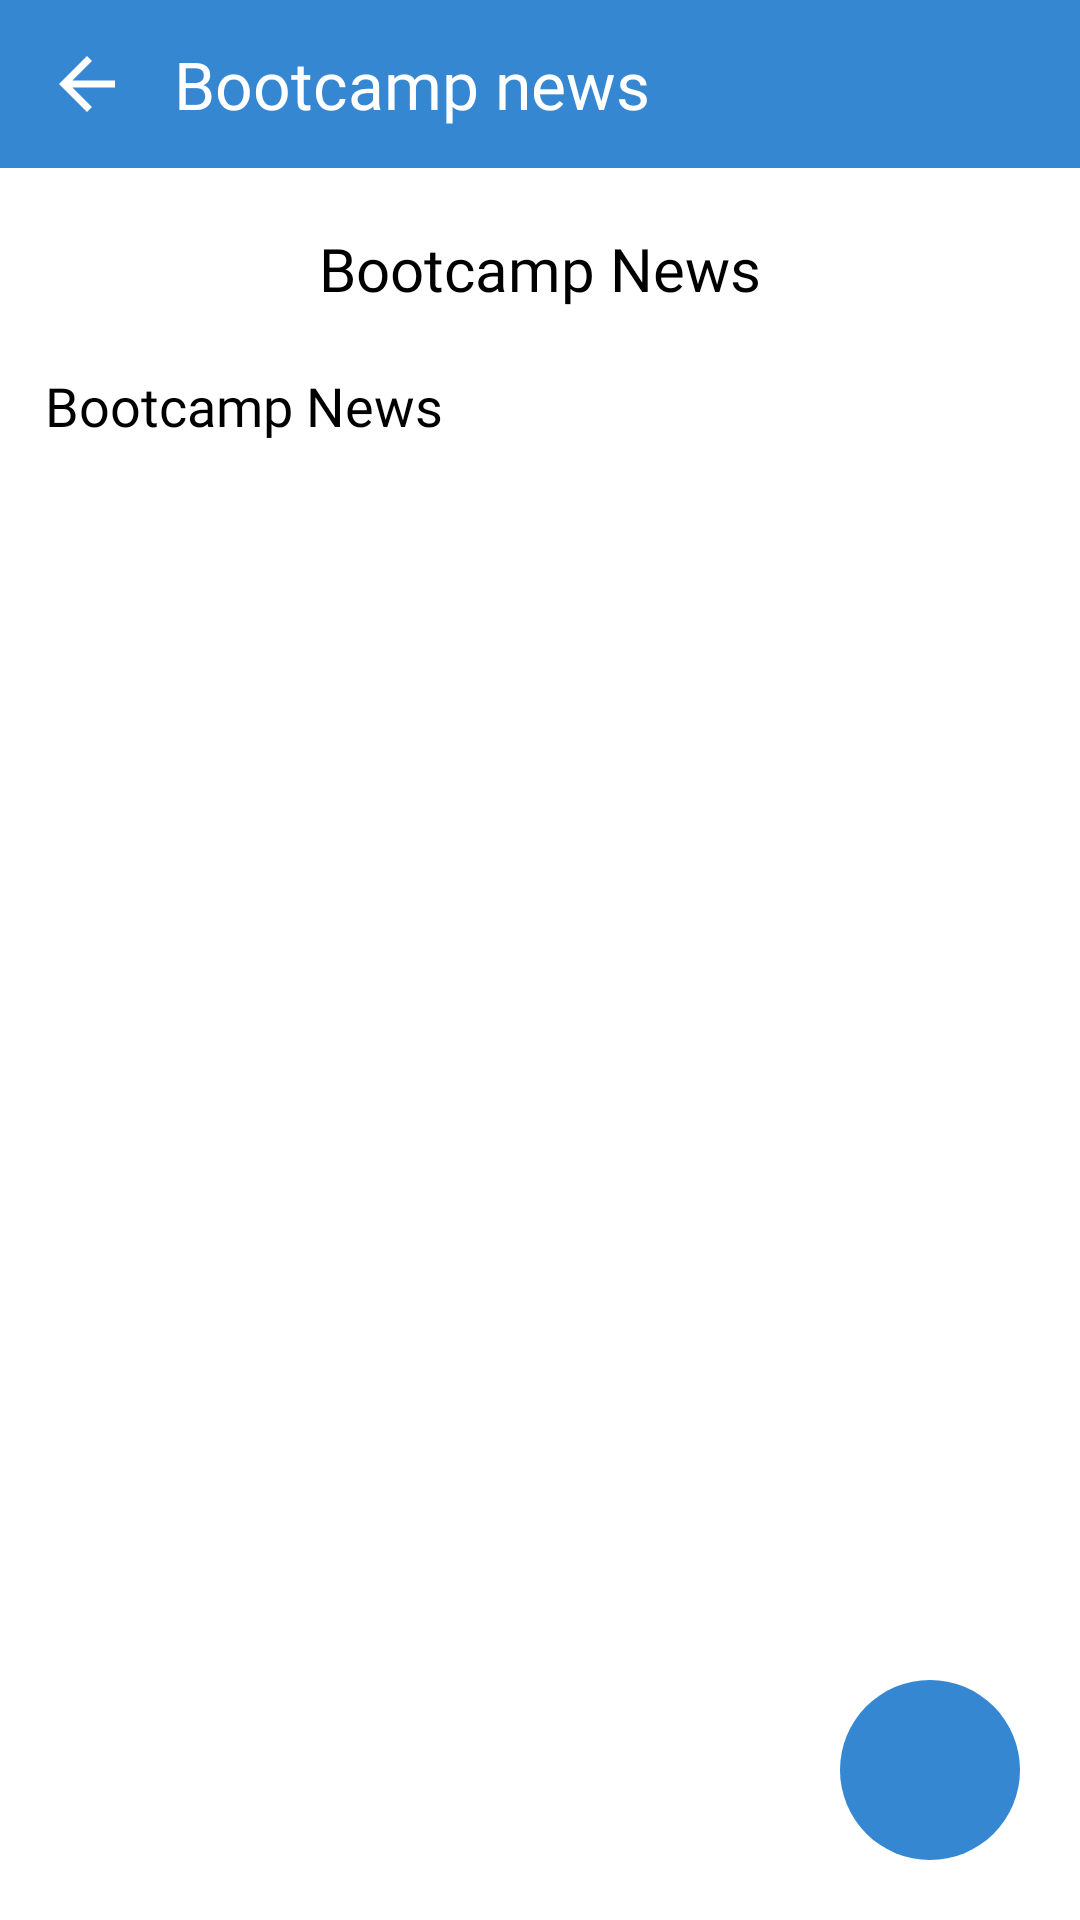

Screen size 1080w x 1920h. Icon name, then its box in pixels as [x1, y1, x2, y2]:
arrow back: [59, 56, 115, 112]
